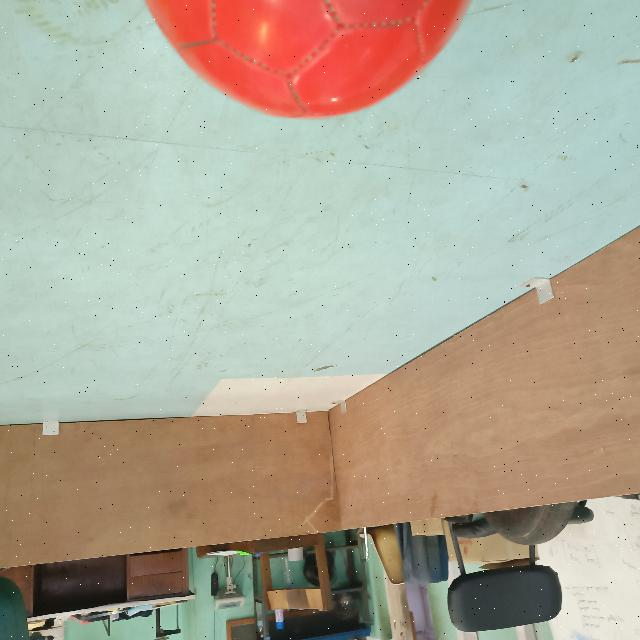R: (132, 0, 484, 128)
